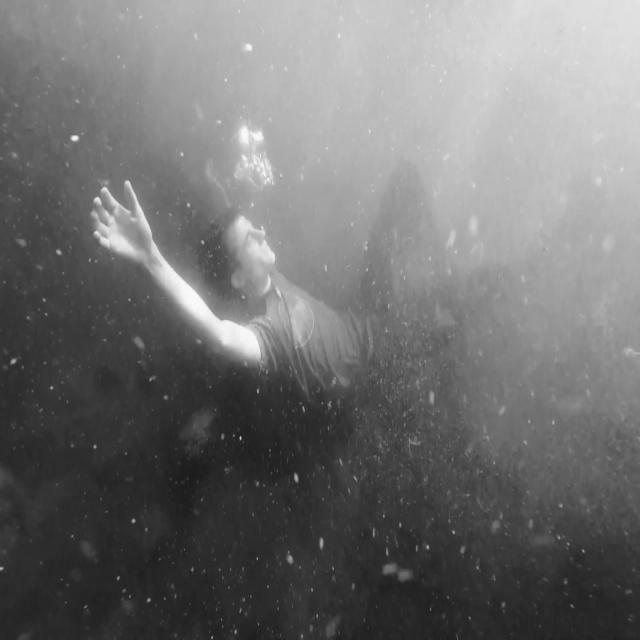drowning: (57, 69, 510, 482)
